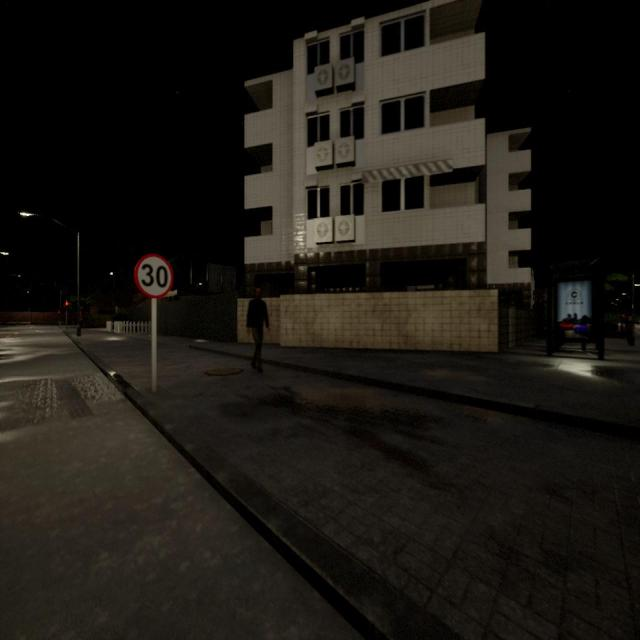Pedestrian: (247, 288, 270, 372)
Traffic_Signs: (135, 254, 173, 298)
traffic_light: (65, 302, 68, 310), (58, 310, 60, 315)
